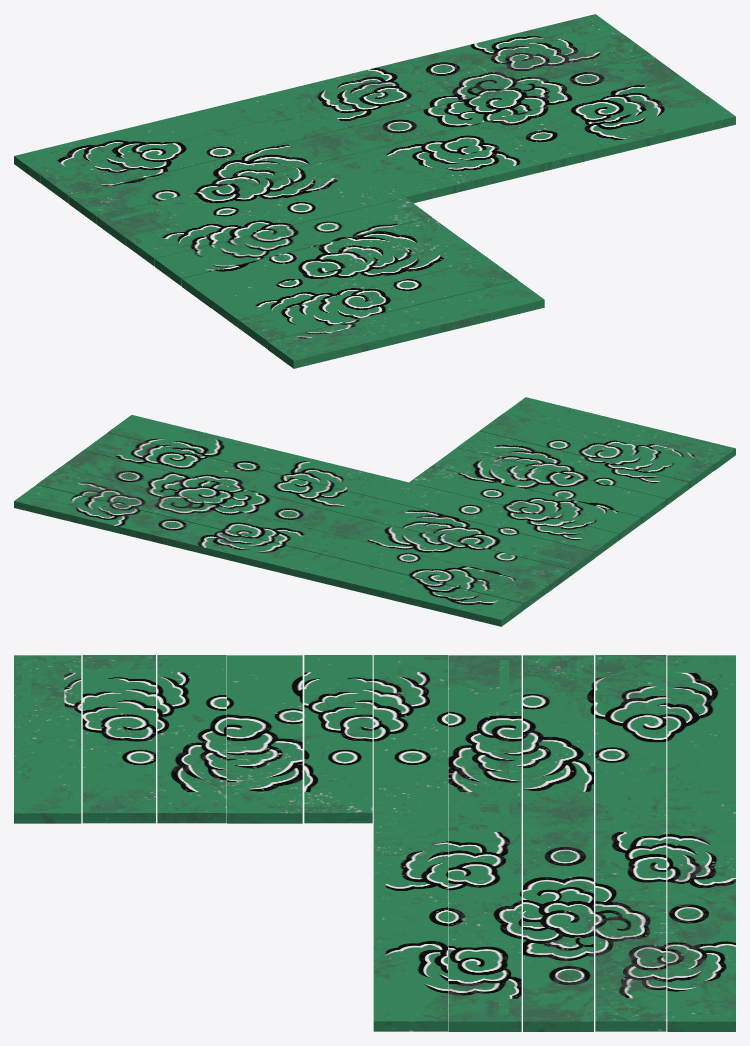
Rendered from SM_Ceiling03a.fbx.
3 views of the same model, one above another, from view 1: azimuth 30°, elevation 25°; view 2: azimuth 150°, elevation 25°; view 3: azimuth 270°, elevation 25° (orthographic). The views are drawn at different scales.
Visible parts, largest first — view 1: SM_Ceiling03a; view 2: SM_Ceiling03a; view 3: SM_Ceiling03a.
Part boxes in pixels (box(x1,y1,x2,y2)): SM_Ceiling03a: box(14, 14, 735, 368); SM_Ceiling03a: box(14, 397, 735, 626); SM_Ceiling03a: box(14, 655, 735, 1031).
Bounding box in the file's own units: 300 × 250 × 4.14.
1 material, 1 textured.
